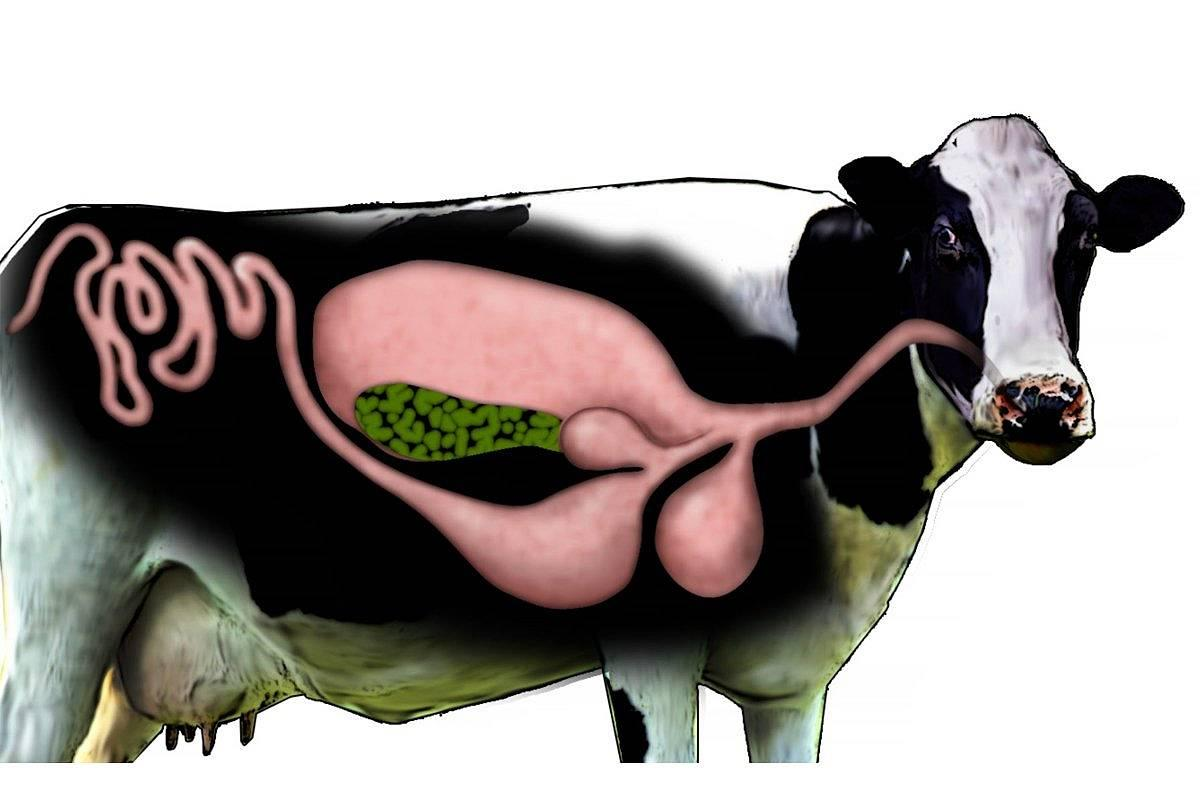cow: (838, 116, 1183, 466)
